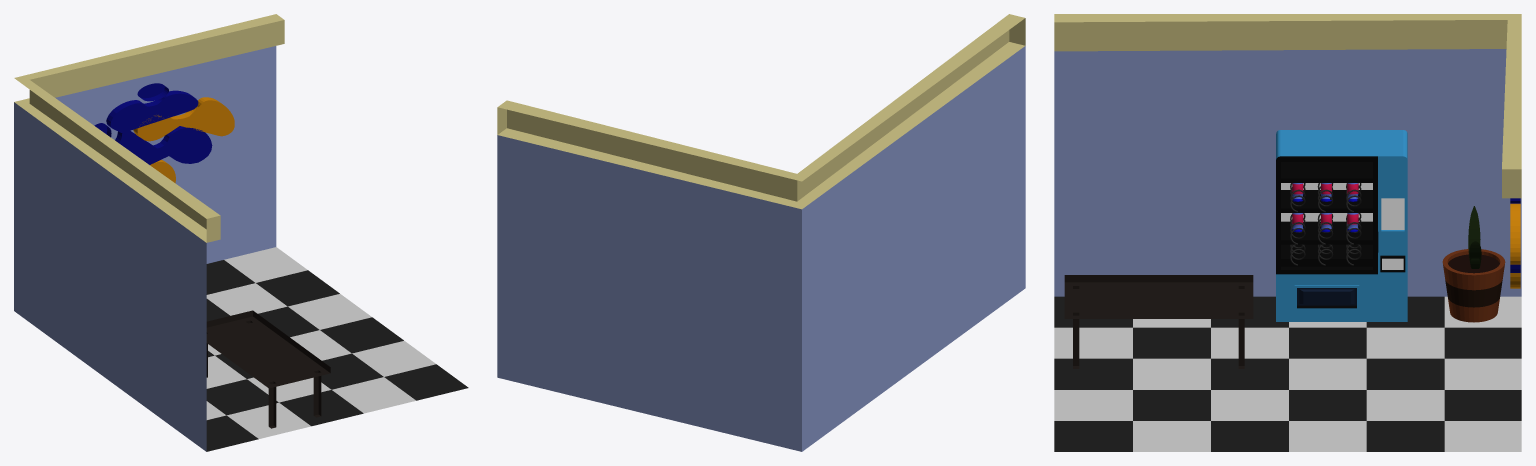
The model's file is Allanim0012.obj.
3 renders of one model, left to right at view 1: azimuth 30°, elevation 25°; view 2: azimuth 150°, elevation 25°; view 3: azimuth 270°, elevation 25°, orthographic. The views are drawn at different scales.
Visible parts, largest first — view 1: ruangan_Cube.003, meja_Cube.004, logo.001_Circle.019, logo_Circle.006, logo.005_Circle.023; view 2: ruangan_Cube.003; view 3: ruangan_Cube.003, vending_machine_Cube.001, meja_Cube.004, pot_bunga_Cylinder, per_second\_Spiral.010, Plane.007, logo_Circle.006.
Part boxes in pixels (x1=…): ruangan_Cube.003: x1=14, y1=14, x2=468, y2=451; meja_Cube.004: x1=206, y1=310, x2=330, y2=428; logo.001_Circle.019: x1=115, y1=126, x2=212, y2=164; logo_Circle.006: x1=133, y1=97, x2=234, y2=141; logo.005_Circle.023: x1=106, y1=90, x2=198, y2=133; ruangan_Cube.003: x1=497, y1=14, x2=1025, y2=451; ruangan_Cube.003: x1=1054, y1=14, x2=1521, y2=451; vending_machine_Cube.001: x1=1276, y1=130, x2=1407, y2=321; meja_Cube.004: x1=1064, y1=275, x2=1253, y2=368; pot_bunga_Cylinder: x1=1442, y1=249, x2=1505, y2=322; per_second\_Spiral.010: x1=1290, y1=183, x2=1361, y2=265; Plane.007: x1=1468, y1=206, x2=1481, y2=268; logo_Circle.006: x1=1510, y1=203, x2=1520, y2=264.
Size of the model in its own units: 11.73 by 9.95 by 14.9.
